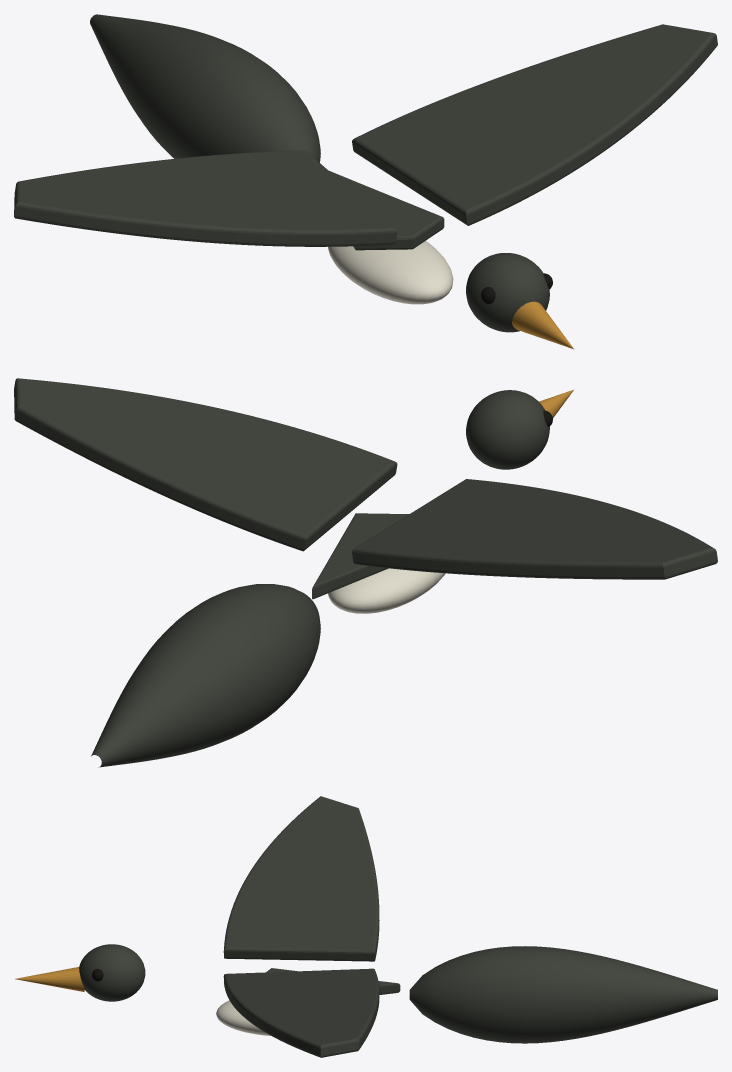
Rendered from bird.glb.
The picture shows the model from 3 angles, top to bottom: view 1: azimuth 30°, elevation 25°; view 2: azimuth 150°, elevation 25°; view 3: azimuth 270°, elevation 25°; orthographic projection. The views are drawn at different scales.
Parts seen in each view (by area): view 1: wing_right, wing_left, body, breast, head, tail, beak; view 2: wing_right, body, wing_left, head, breast, tail; view 3: body, wing_left, wing_right, head, beak, breast.
Part boxes in pixels (bbox=[...]): wing_right: bbox=[352, 24, 717, 225]; wing_left: bbox=[14, 150, 397, 246]; body: bbox=[90, 14, 320, 162]; breast: bbox=[328, 241, 453, 304]; head: bbox=[466, 253, 549, 332]; tail: bbox=[329, 171, 444, 250]; beak: bbox=[512, 301, 573, 349]; wing_right: bbox=[14, 378, 397, 551]; body: bbox=[91, 584, 320, 767]; wing_left: bbox=[352, 479, 717, 579]; head: bbox=[466, 390, 549, 469]; breast: bbox=[328, 568, 445, 613]; tail: bbox=[312, 513, 409, 599]; body: bbox=[409, 946, 717, 1043]; wing_left: bbox=[223, 796, 379, 961]; wing_right: bbox=[223, 968, 379, 1057]; head: bbox=[79, 944, 145, 1001]; beak: bbox=[15, 967, 84, 991]; breast: bbox=[216, 1000, 270, 1035].
Bounding box in the file's own units: 1.44 × 0.3129 × 1.69.
